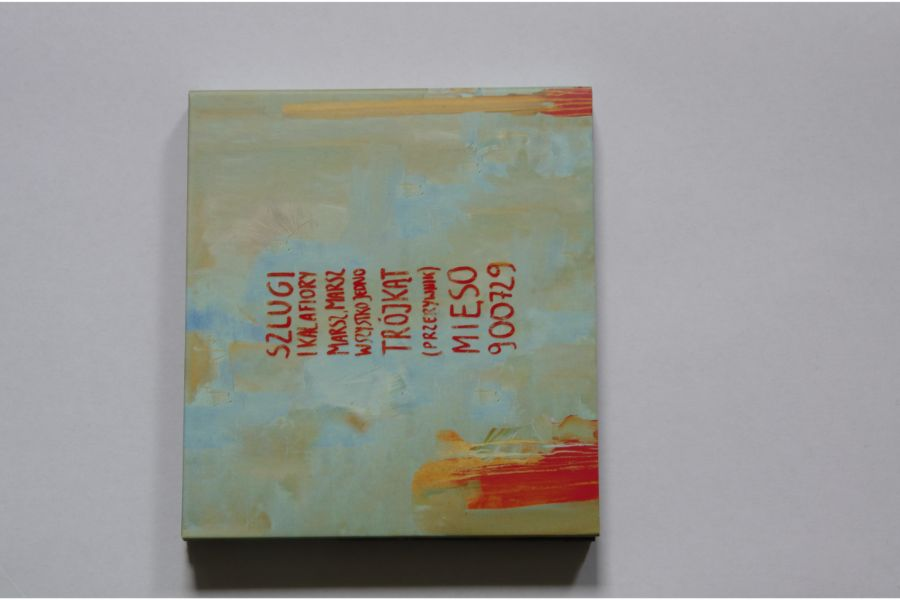album: (182, 86, 602, 543)
